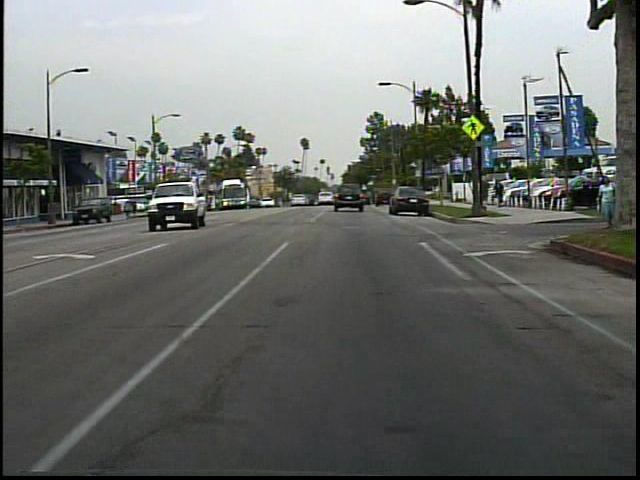person: (592, 170, 618, 231)
